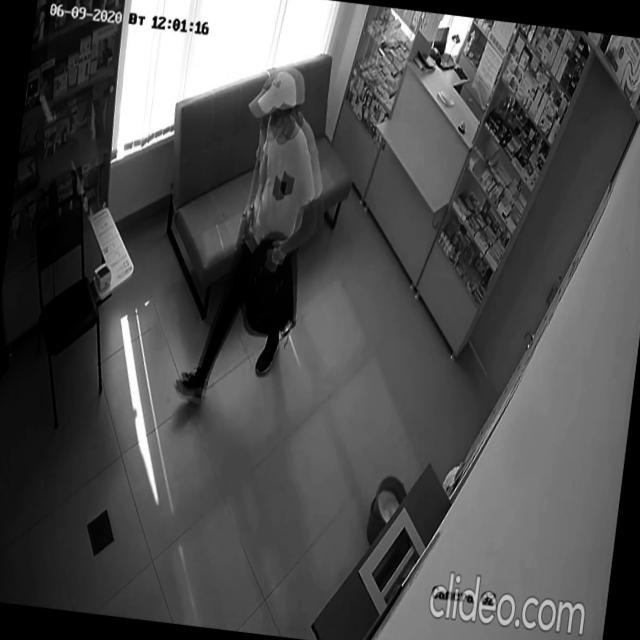gun: (233, 198, 256, 258)
person with a gun: (171, 56, 339, 418)
